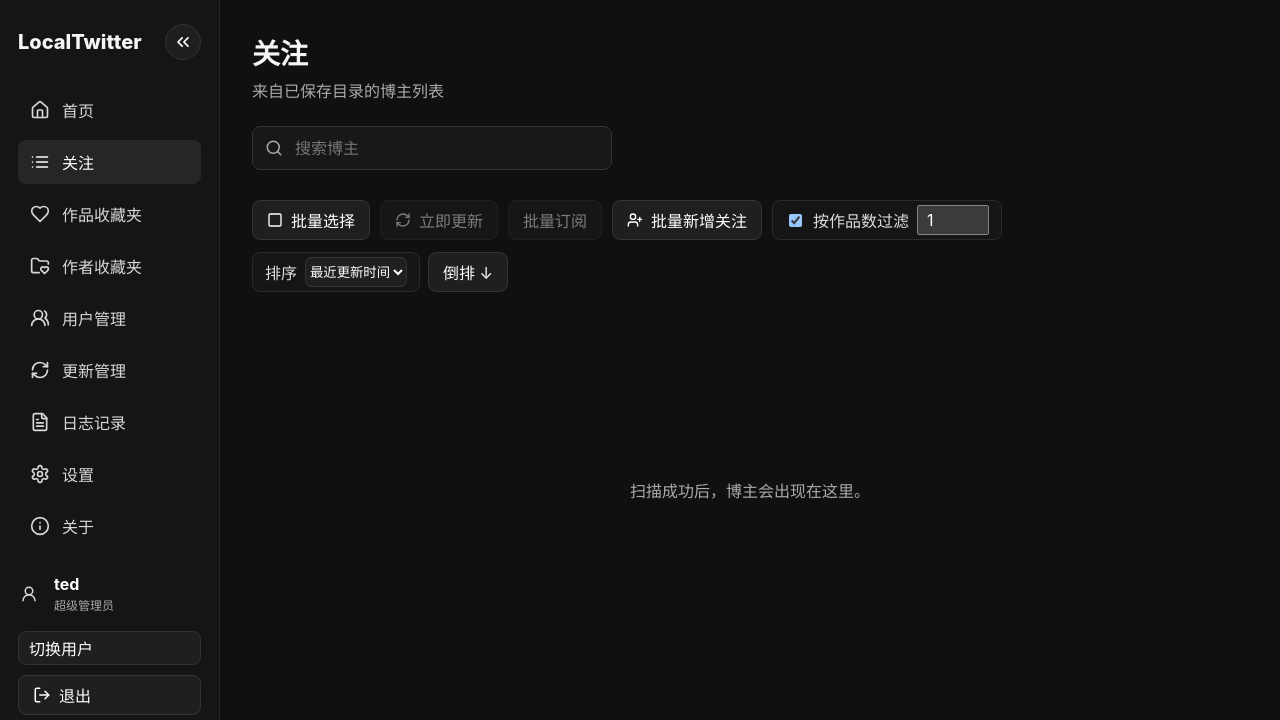
Test: logs out and redirects to the login page without a manual refresh
Check: the text "ted" is shown, box x1=54 y1=574 x2=79 y2=594
Click the button with aria-label "退出登录" at (110, 695), box x1=18 y1=675 x2=201 y2=715
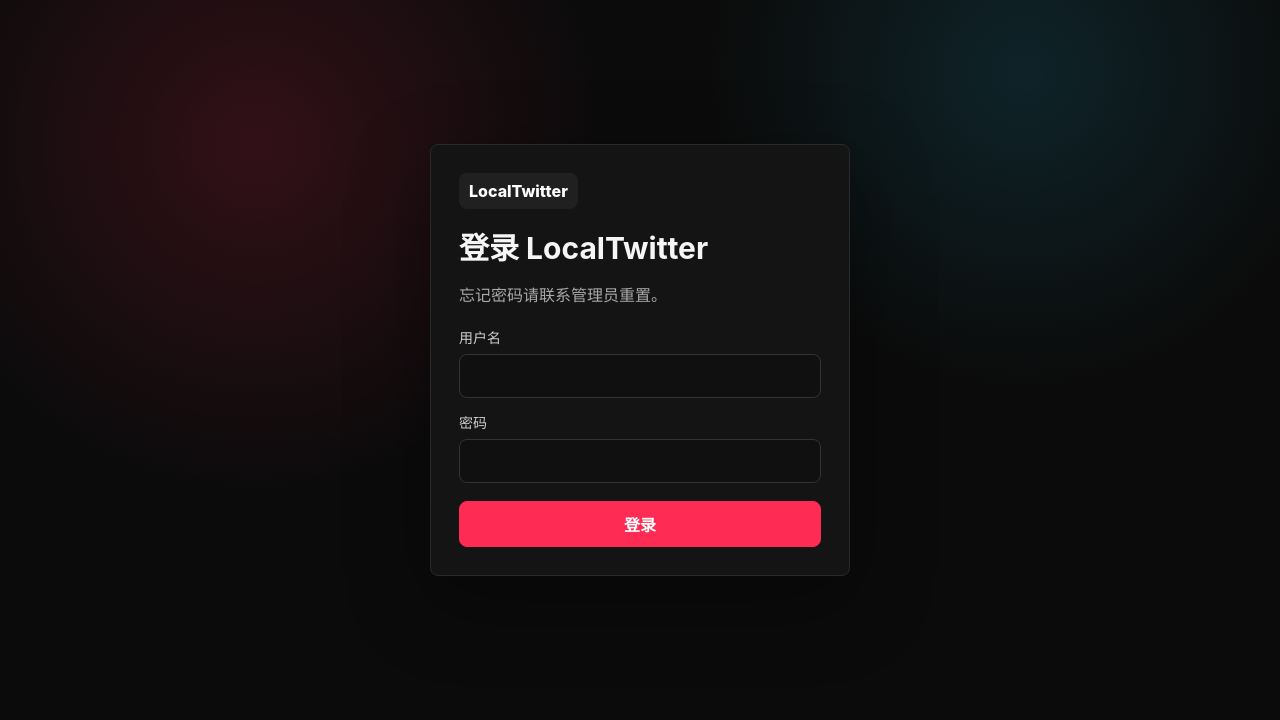
Check: the heading "登录 LocalTwitter" is shown, box x1=459 y1=230 x2=708 y2=266
